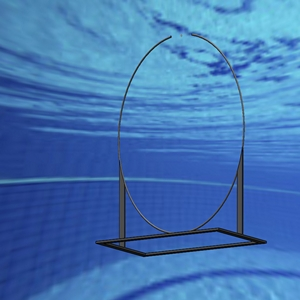circle: (94, 33, 267, 257)
